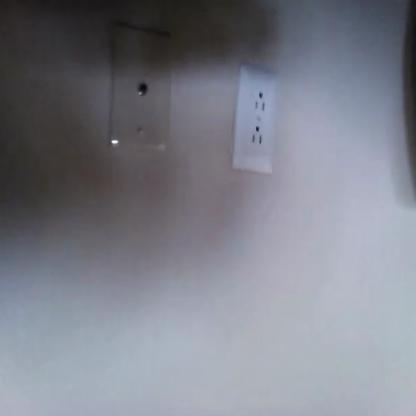OUTLET: (235, 66, 280, 170)
